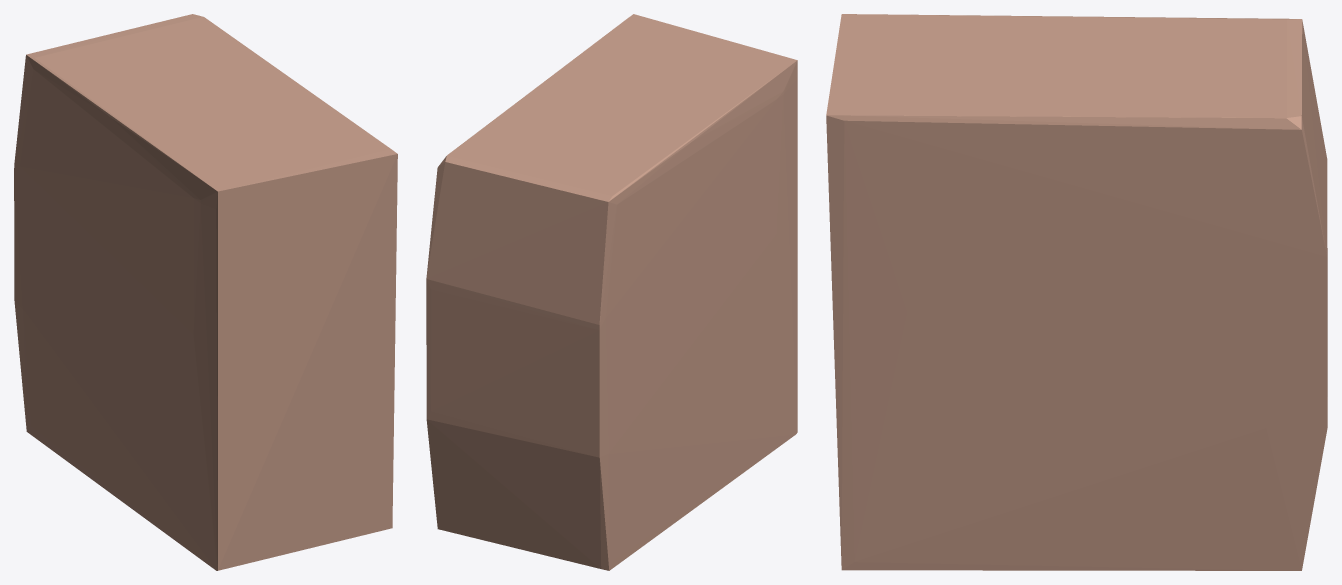
File: facilitySystem_beverageStation_breakArea_a01.glb
3 renders of one model, left to right at view 1: azimuth 30°, elevation 25°; view 2: azimuth 150°, elevation 25°; view 3: azimuth 270°, elevation 25°, orthographic. The views are drawn at different scales.
Visible parts, largest first — view 1: geometry_0; view 2: geometry_0; view 3: geometry_0.
Boxes of the visible parts, left/top/right/bottom form: geometry_0: left=14, top=14, right=397, bottom=570; geometry_0: left=426, top=14, right=797, bottom=570; geometry_0: left=826, top=14, right=1327, bottom=570.
Bounding box in the file's own units: 0.2335 × 0.4786 × 0.4775.
